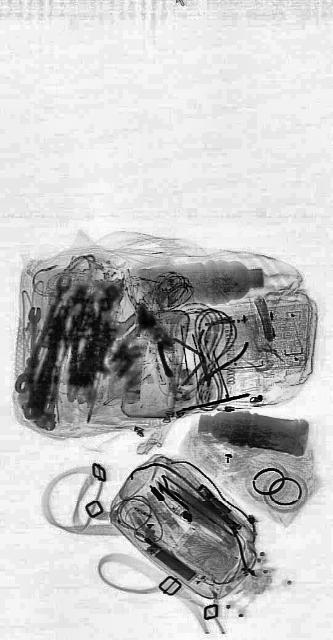Pliers: (189, 304, 249, 406)
Wrench: (14, 266, 72, 398), (24, 306, 40, 418)
